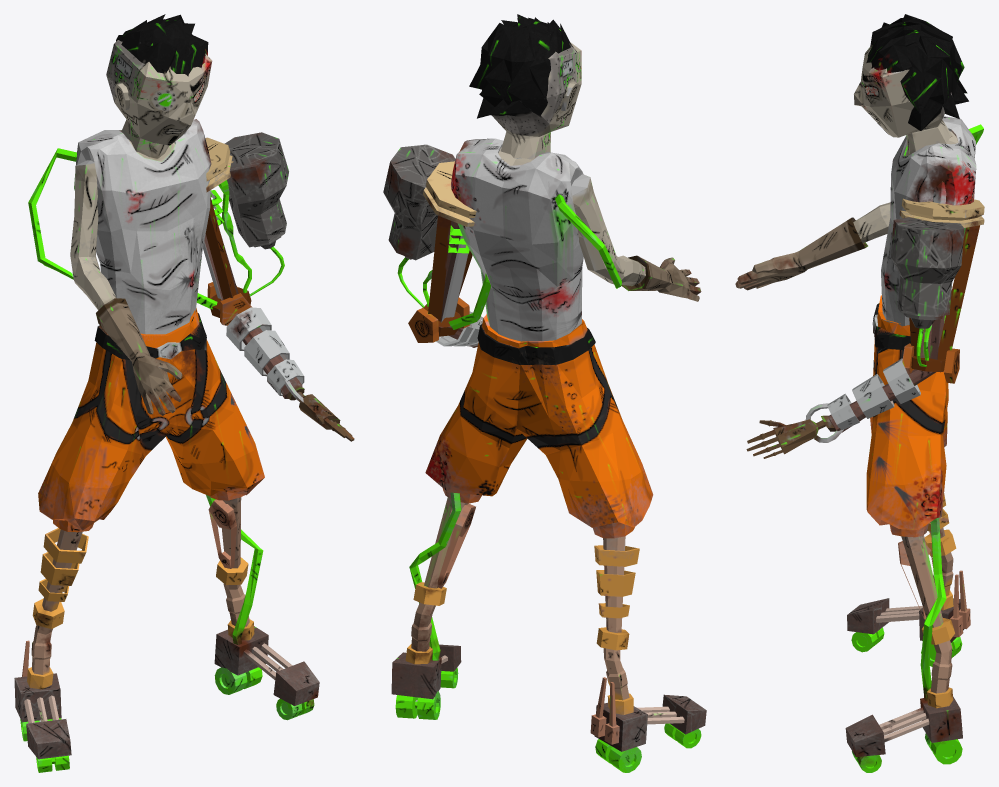
Rendered from CyborgFINALAnimation_000030.obj.
3 views of the same model, side by side, from view 1: azimuth 30°, elevation 25°; view 2: azimuth 150°, elevation 25°; view 3: azimuth 270°, elevation 25° (orthographic). The views are drawn at different scales.
Parts seen in each view (by area): view 1: CyborgMesh_Cube.002; view 2: CyborgMesh_Cube.002; view 3: CyborgMesh_Cube.002.
Part boxes in pixels (left/top/right/bottom): CyborgMesh_Cube.002: left=14, top=14, right=354, bottom=772; CyborgMesh_Cube.002: left=383, top=14, right=706, bottom=772; CyborgMesh_Cube.002: left=735, top=14, right=984, bottom=772.
Size of the model in its own units: 4.02 by 9.65 by 3.14.
